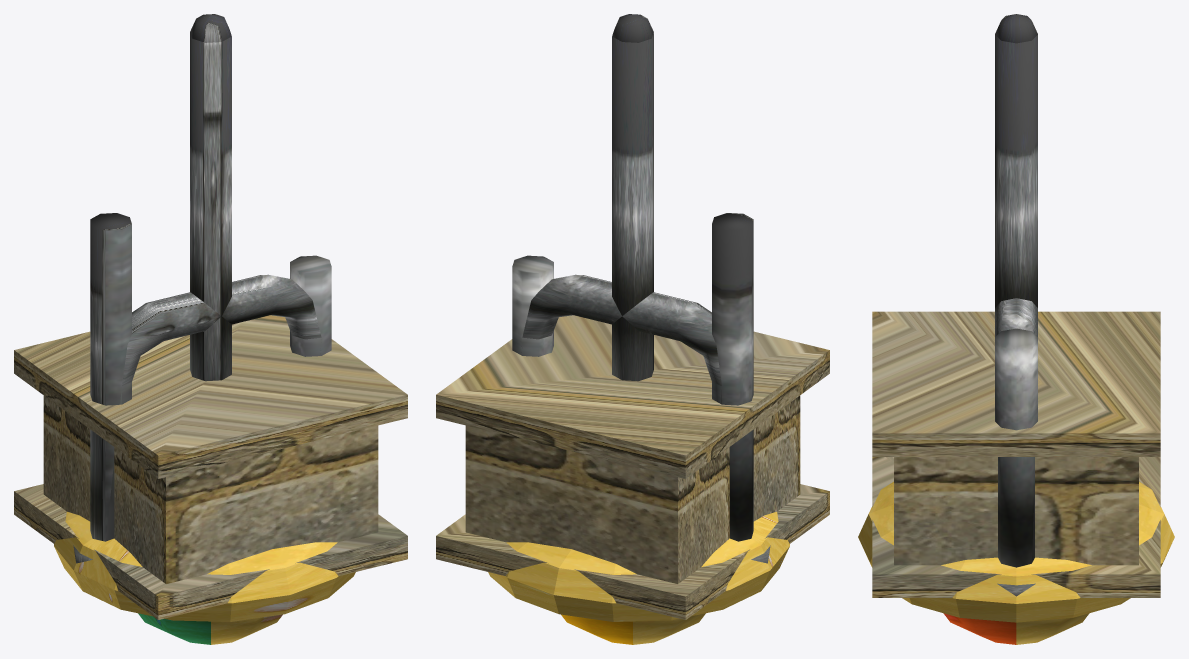
File: props.glb
3 views of the same model, side by side, from view 1: azimuth 30°, elevation 25°; view 2: azimuth 150°, elevation 25°; view 3: azimuth 270°, elevation 25° (orthographic).
Visible parts, largest first — view 1: PR_plinth, PR_pipes, PR_ring, PR_ball; view 2: PR_plinth, PR_pipes, PR_ring, PR_ball; view 3: PR_plinth, PR_pipes, PR_ring, PR_ball.
Part boxes in pixels (x1=…): PR_plinth: x1=14, y1=315, x2=407, y2=619; PR_pipes: x1=73, y1=14, x2=331, y2=563; PR_ring: x1=54, y1=511, x2=355, y2=621; PR_ball: x1=138, y1=613, x2=282, y2=644; PR_plinth: x1=436, y1=315, x2=829, y2=619; PR_pipes: x1=512, y1=14, x2=770, y2=563; PR_ring: x1=488, y1=511, x2=789, y2=621; PR_ball: x1=561, y1=613, x2=705, y2=644; PR_plinth: x1=872, y1=311, x2=1160, y2=597; PR_pipes: x1=995, y1=14, x2=1037, y2=596; PR_ring: x1=858, y1=481, x2=1174, y2=622; PR_ball: x1=943, y1=613, x2=1089, y2=644.
Size of the model in its own units: 2.2 by 4.75 by 2.2.
4 materials, 4 textured.
